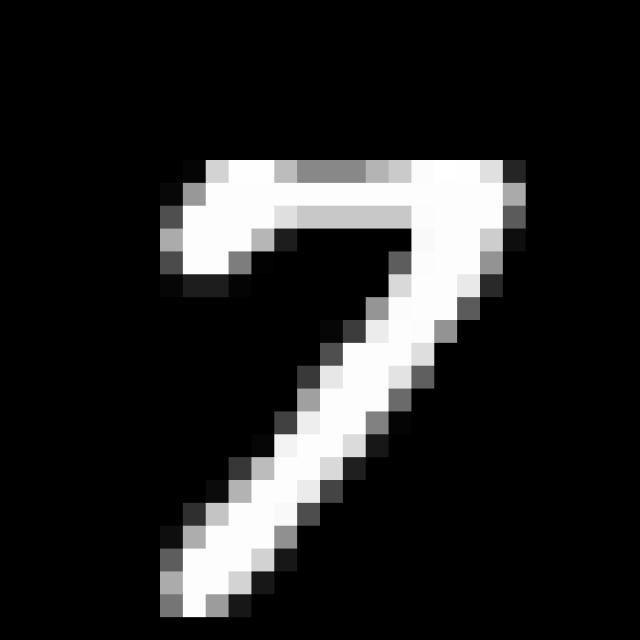seven -7-: (144, 139, 520, 640)
